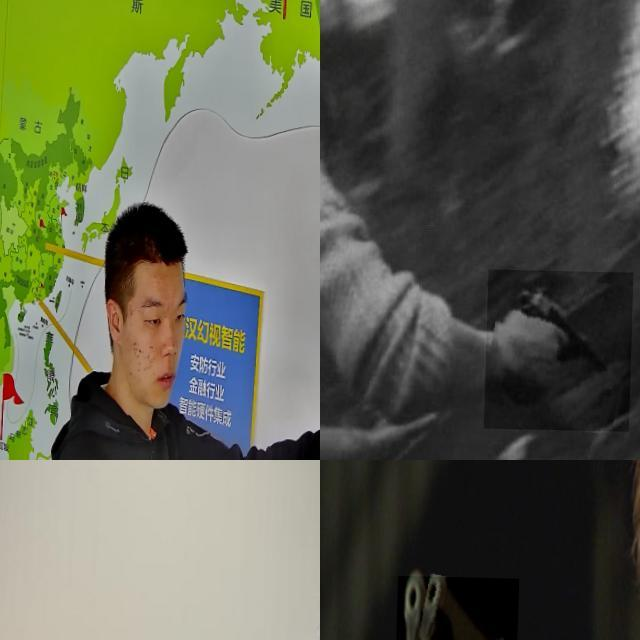gun-knife-thesis - v11 Yolov5 augmented: (487, 267, 636, 428), (393, 575, 520, 640)
